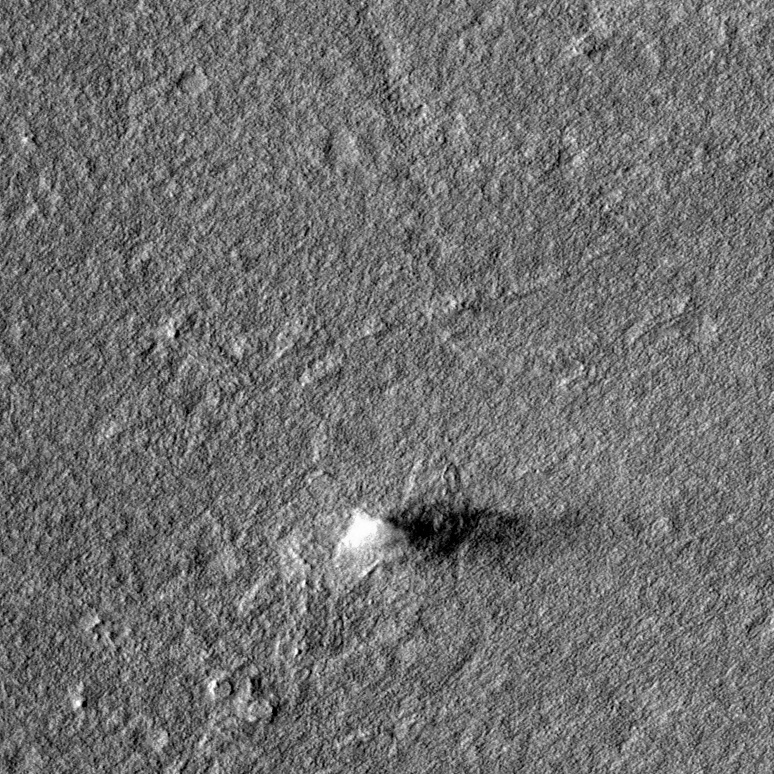dust_devil: (330, 495, 581, 569)
